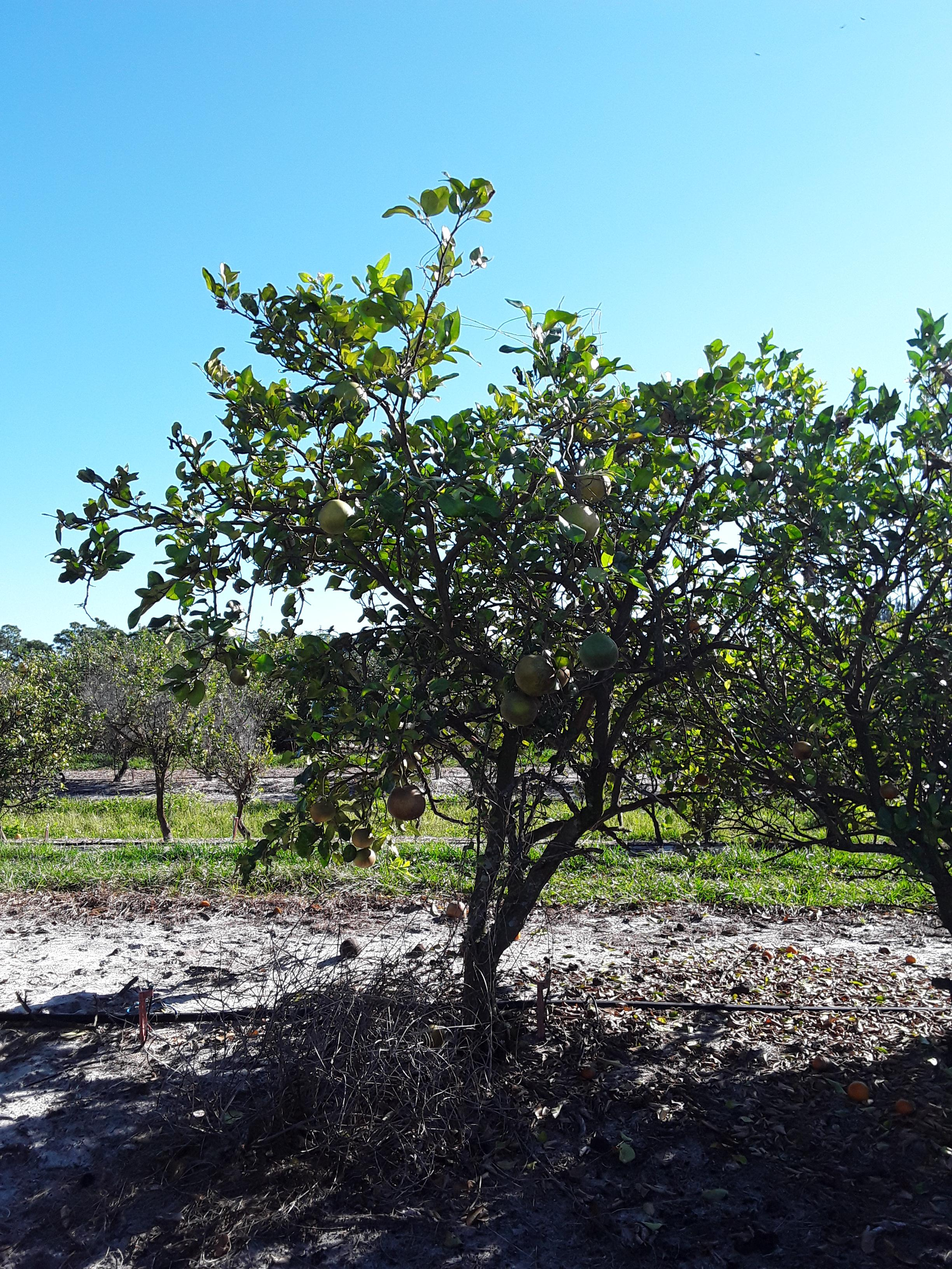fruit_on_ground: (557, 502, 609, 546), (579, 630, 626, 676), (317, 497, 360, 537), (386, 783, 430, 821), (330, 376, 371, 414), (573, 472, 621, 503), (517, 654, 549, 695), (509, 697, 539, 732), (401, 746, 431, 777), (703, 371, 735, 397), (306, 800, 339, 823), (353, 847, 378, 873), (227, 664, 251, 690), (752, 460, 775, 483), (789, 741, 815, 761), (353, 826, 378, 846), (686, 616, 702, 638), (882, 782, 898, 803), (693, 773, 709, 788)
fruit_on_tree: (336, 935, 366, 962), (420, 1024, 447, 1051), (848, 1083, 871, 1110), (444, 900, 469, 921), (892, 1096, 913, 1120), (810, 1054, 834, 1071), (732, 982, 755, 996), (877, 944, 895, 958), (577, 1066, 598, 1078), (786, 944, 801, 958), (749, 940, 764, 952), (514, 926, 523, 945), (904, 951, 916, 965), (271, 904, 283, 917), (199, 898, 212, 909), (761, 951, 776, 960), (593, 977, 606, 986), (670, 938, 683, 945), (679, 923, 686, 931)
